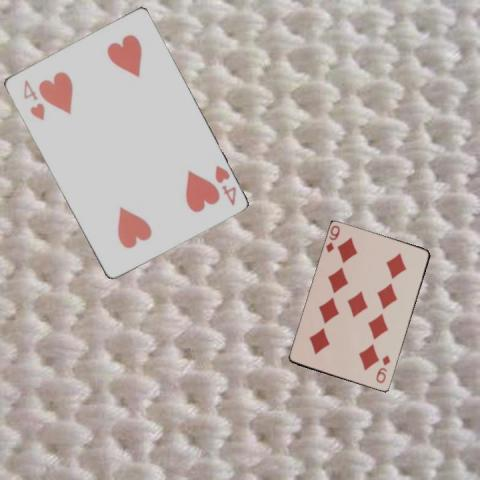4h: (20, 77, 46, 122), (212, 163, 238, 207)
9d: (373, 352, 392, 384), (324, 223, 342, 254)
